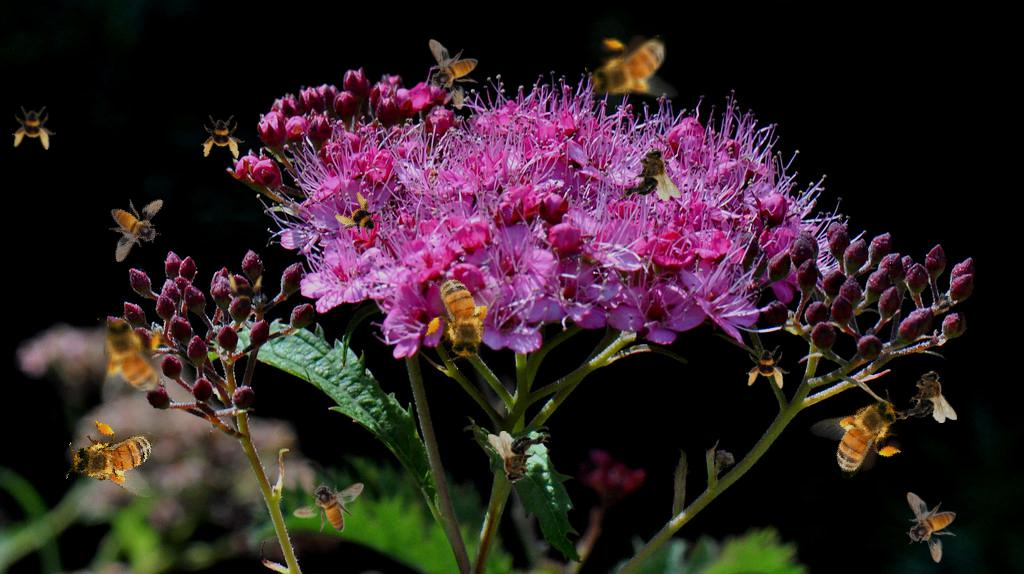Bee: (806, 386, 920, 485), (59, 411, 169, 504), (416, 262, 508, 371), (92, 184, 180, 265), (585, 35, 678, 103), (97, 312, 165, 405), (329, 188, 391, 250), (428, 39, 478, 110), (293, 482, 364, 532), (906, 492, 956, 563), (895, 370, 957, 423), (619, 148, 681, 201), (488, 431, 550, 484), (200, 114, 246, 160), (12, 106, 56, 150), (221, 271, 265, 315), (746, 345, 790, 389)
